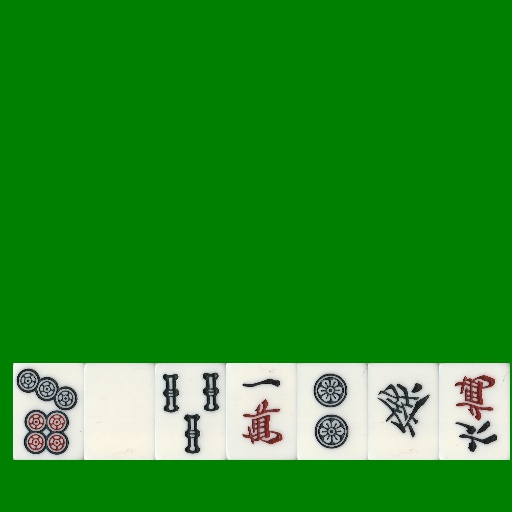1m: (226, 363, 297, 460)
2p: (297, 363, 368, 460)
3s: (155, 363, 226, 460)
6m: (439, 363, 510, 460)
7p: (13, 363, 84, 460)
hatsu: (368, 363, 439, 460)
white: (84, 363, 155, 460)
